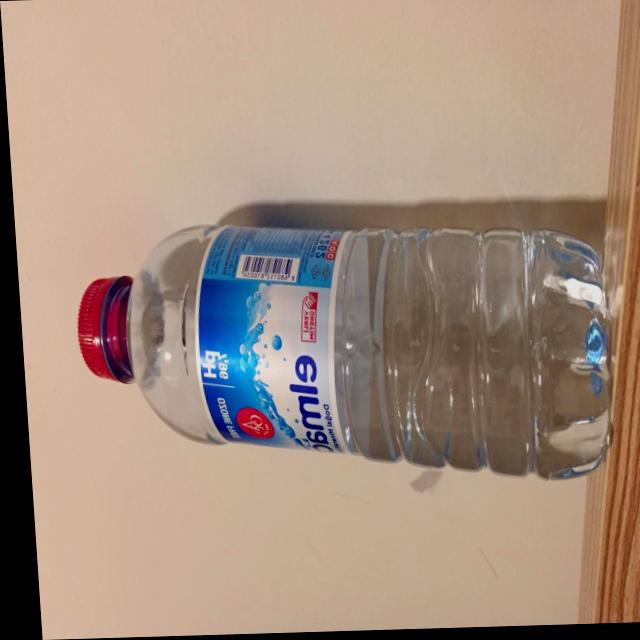anorganik: (80, 262, 632, 478)
